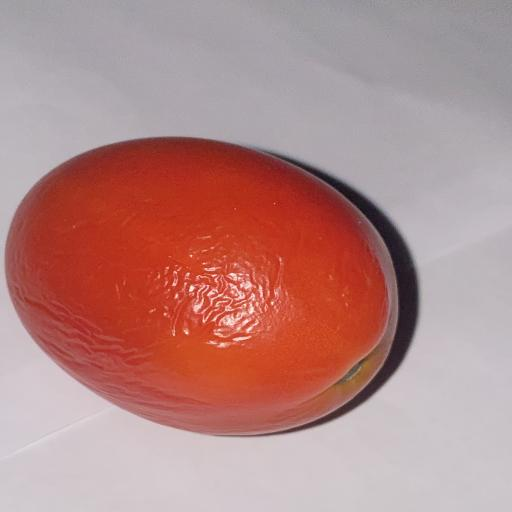spoiled: (5, 137, 397, 434)
